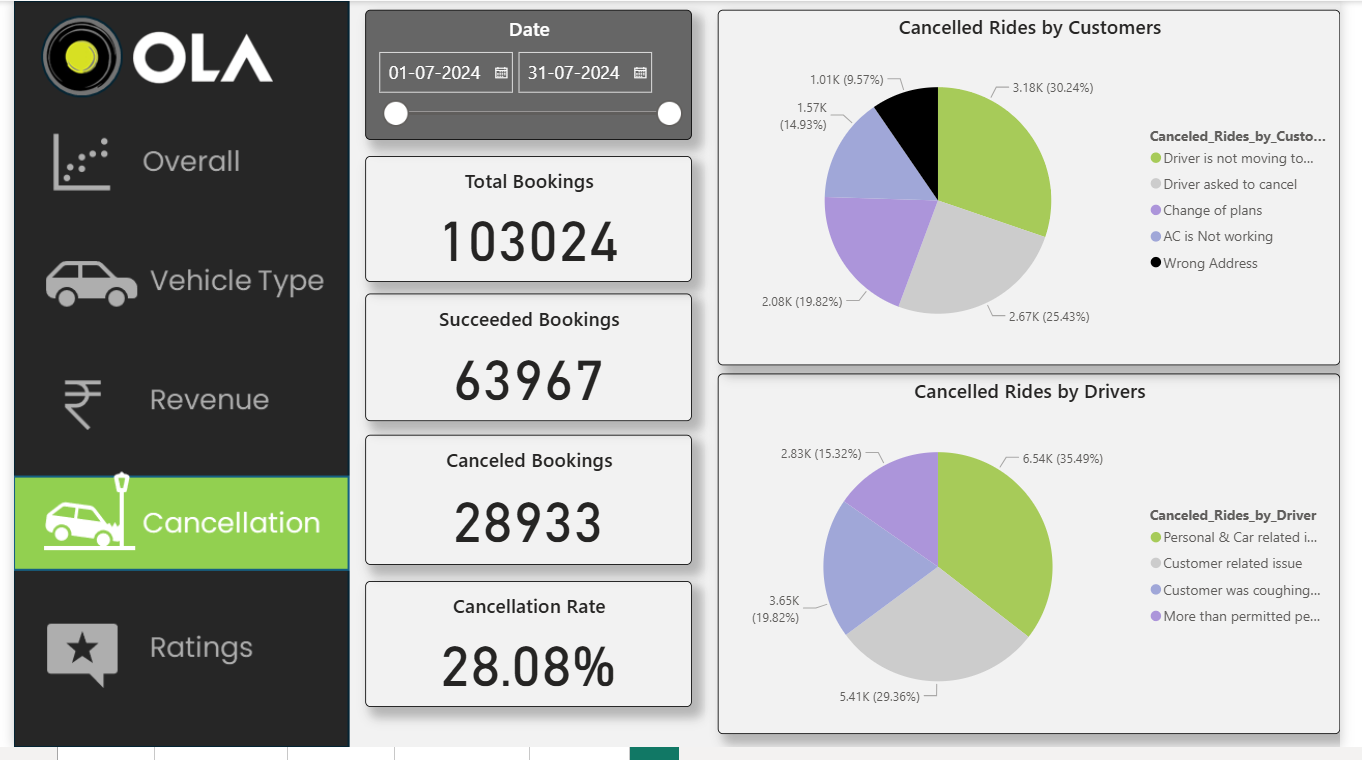

This screenshot's page, from the dashboard's own definition file:
{"tool":"powerbi","page":{"name":"Cancellation","canvas":[1280,720],"ordinal":3},"visuals":[{"type":"actionButton","box":[0,225.2,324.5,93.1],"z":0},{"type":"actionButton","box":[0,343.2,324.5,93.1],"z":1000},{"type":"actionButton","box":[0,587,324.5,93.1],"z":2000},{"type":"actionButton","box":[0,110,324.5,93.1],"z":3000},{"type":"pieChart","title":"Cancelled Rides by Customers","fields":{"Category":["July.Canceled_Rides_by_Customer"],"Y":["CountNonNull(July.Canceled_Rides_by_Customer)"]},"box":[678.9,8.8,601.1,343.3],"z":4000},{"type":"pieChart","title":"Cancelled Rides by Drivers","fields":{"Category":["July.Canceled_Rides_by_Driver"],"Y":["CountNonNull(July.Canceled_Rides_by_Driver)"]},"box":[678.9,359.9,601.1,348.2],"z":5000},{"type":"slicer","title":"Date","fields":{"Values":["July.Date"]},"box":[339.5,8.8,315.1,125.5],"z":6000},{"type":"card","title":"Total Bookings","fields":{"Values":["Count(July.Booking_ID)"]},"box":[339.5,149.8,315.1,121.6],"z":7000},{"type":"card","title":"Succeeded Bookings","fields":{"Values":["Count(July.Booking_ID)"]},"box":[339.5,282.1,315.1,123.5],"z":8000},{"type":"card","title":"Canceled Bookings","fields":{"Values":["Count(July.Booking_ID)"]},"box":[339.5,418.2,315.1,125.5],"z":9000},{"type":"card","title":"Cancellation Rate","fields":{"Values":["July.CanceledPercentage"]},"box":[339.5,559.3,315.1,121.6],"z":10000}]}

Visuals, with their boxes in screenshot pixels (x1, y1, x2, y2), scaled from the page's 1280x720 canvas onto the 1362x760 screenshot:
actionButton: 0, 238, 345, 336
actionButton: 0, 362, 345, 461
actionButton: 0, 620, 345, 718
actionButton: 0, 116, 345, 214
"Cancelled Rides by Customers" pieChart: 722, 9, 1361, 372
"Cancelled Rides by Drivers" pieChart: 722, 380, 1361, 747
"Date" slicer: 361, 9, 697, 142
"Total Bookings" card: 361, 158, 697, 286
"Succeeded Bookings" card: 361, 298, 697, 428
"Canceled Bookings" card: 361, 441, 697, 574
"Cancellation Rate" card: 361, 590, 697, 719
